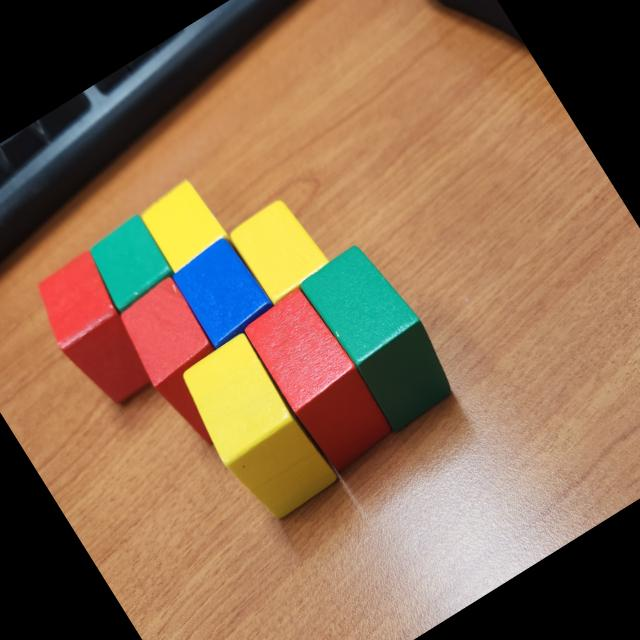blue: (164, 231, 278, 351)
green: (292, 234, 466, 437), (78, 210, 178, 312)
red: (234, 279, 402, 480), (108, 274, 258, 454), (23, 248, 170, 420)
yellow: (165, 324, 349, 538), (225, 192, 332, 304), (133, 175, 230, 274)
